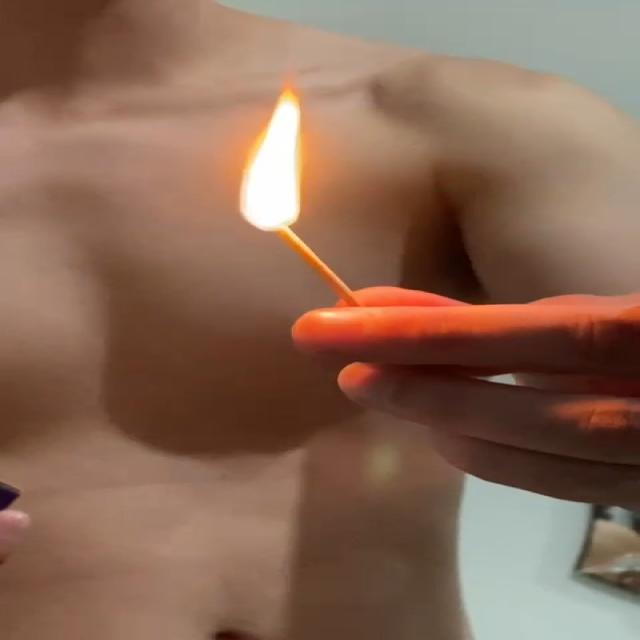fogo-ypXI: (238, 71, 307, 233)
